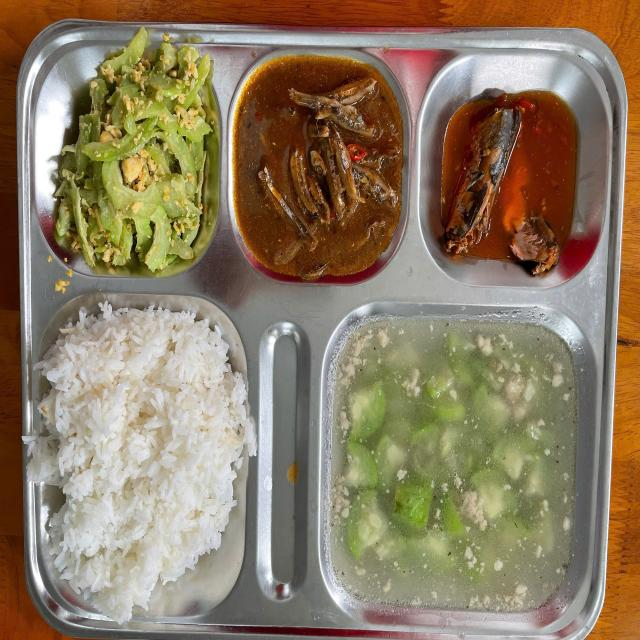cacom: (240, 67, 397, 272)
cahoi: (446, 83, 582, 270)
canhbau: (333, 318, 581, 610)
salad: (42, 320, 242, 598)
vung: (58, 51, 215, 265)
